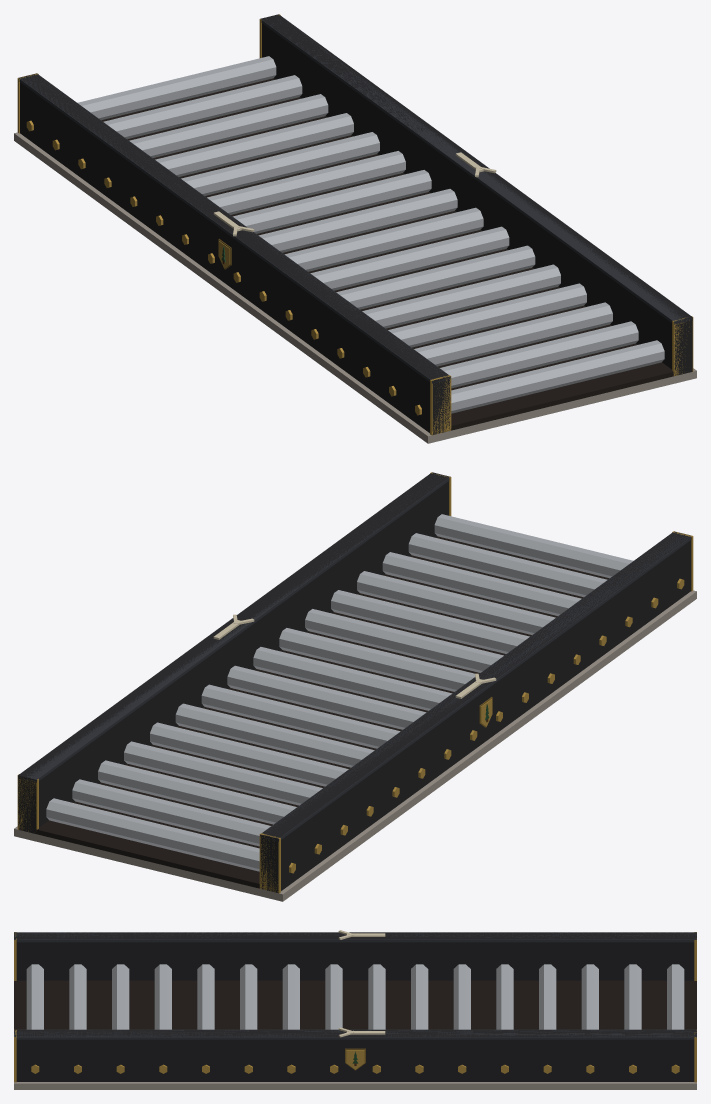
File: ConveyorLong.glb
3 views of the same model, one above another, from view 1: azimuth 30°, elevation 25°; view 2: azimuth 150°, elevation 25°; view 3: azimuth 270°, elevation 25° (orthographic). The views are drawn at different scales.
Parts seen in each view (by area): view 1: Rollers, Body, Belt; view 2: Rollers, Body, Belt; view 3: Body, Belt, Rollers, ArrowDecal.
Part boxes in pixels (box(x1,y1,x2,y2)): Rollers: box(26, 56, 664, 415); Body: box(14, 14, 696, 443); Belt: box(101, 78, 674, 430); Rollers: box(46, 514, 684, 873); Body: box(14, 472, 696, 901); Belt: box(36, 536, 609, 888); Body: box(14, 932, 696, 1089); Belt: box(14, 980, 696, 1029); Rollers: box(26, 964, 684, 1073); ArrowDecal: box(338, 930, 385, 1037).
Size of the model in its own units: 6 by 1.37 by 16.
